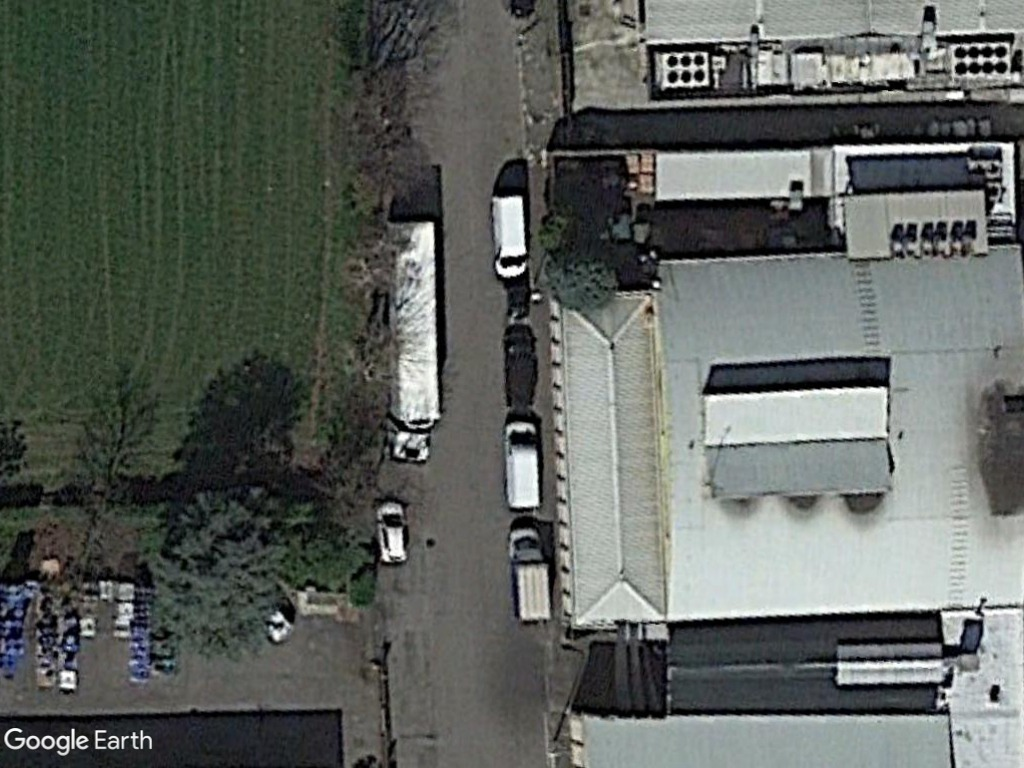car: (372, 496, 415, 567)
longvehicle: (381, 213, 446, 465)
truck: (504, 525, 557, 627)
van: (483, 190, 536, 282), (500, 416, 545, 515)
